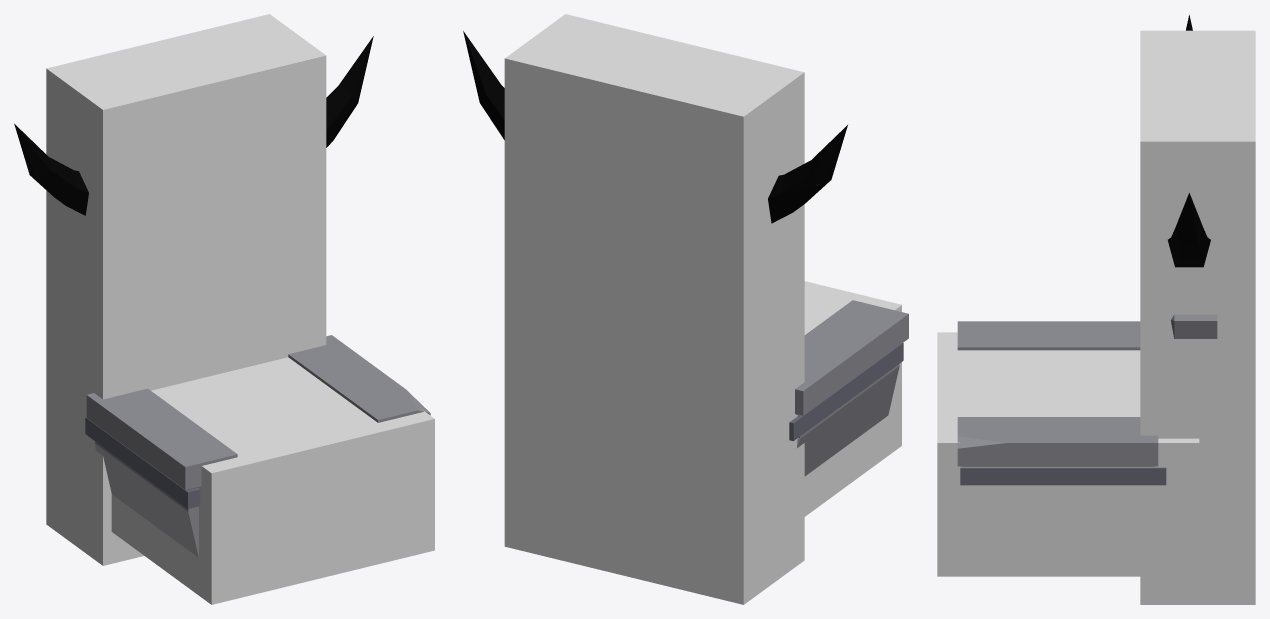
The model's file is orc_throne.glb.
3 renders of one model, left to right at view 1: azimuth 30°, elevation 25°; view 2: azimuth 150°, elevation 25°; view 3: azimuth 270°, elevation 25°, orthographic. The views are drawn at different scales.
Parts seen in each view (by area): view 1: Cube.001, Cube, throne; view 2: Cube.001, throne, Cube; view 3: Cube.001, Cube, throne.
Boxes of the visible parts, x1,y1,x2,y2 form: Cube.001: [46, 14, 326, 565]; Cube: [111, 357, 434, 604]; throne: [14, 36, 430, 557]; Cube.001: [504, 14, 804, 604]; throne: [463, 31, 908, 476]; Cube: [804, 281, 901, 516]; Cube.001: [1140, 30, 1255, 604]; Cube: [937, 332, 1199, 576]; throne: [957, 15, 1217, 485].
Size of the model in its own units: 3.22 by 3.9 by 2.43.
Materials: 1 (1 with a texture image).
